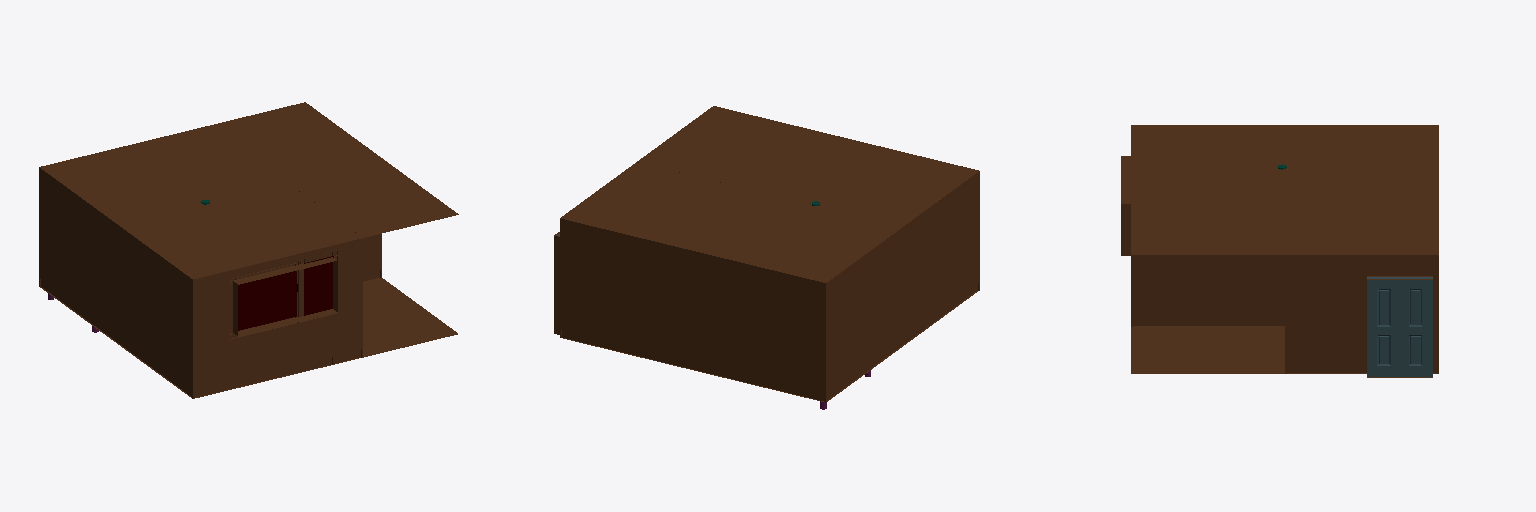
Rendered from Bedroom.obj.
3 views of the same model, side by side, from view 1: azimuth 30°, elevation 25°; view 2: azimuth 150°, elevation 25°; view 3: azimuth 270°, elevation 25° (orthographic).
Visible parts, largest first — view 1: Object01, Walls, Floor, Plane01, Box01, Window_Frame; view 2: Walls, Object01, Box01; view 3: Object01, Walls, Floor, Box02, Box01, Window_Frame.
Part boxes in pixels (left/top/right/bottom): Object01: left=40, top=102, right=458, bottom=279; Walls: left=39, top=105, right=381, bottom=390; Floor: left=40, top=278, right=457, bottom=398; Plane01: left=238, top=256, right=333, bottom=330; Box01: left=39, top=270, right=381, bottom=398; Window_Frame: left=229, top=251, right=337, bottom=339; Walls: left=560, top=136, right=979, bottom=393; Object01: left=560, top=106, right=978, bottom=282; Box01: left=554, top=232, right=979, bottom=402; Object01: left=1131, top=125, right=1438, bottom=254; Walls: left=1131, top=255, right=1438, bottom=365; Floor: left=1131, top=326, right=1435, bottom=373; Box02: left=1367, top=277, right=1432, bottom=376; Box01: left=1131, top=276, right=1438, bottom=377; Window_Frame: left=1121, top=156, right=1130, bottom=255.
Size of the model in its own units: 70.24 by 32.07 by 70.24.